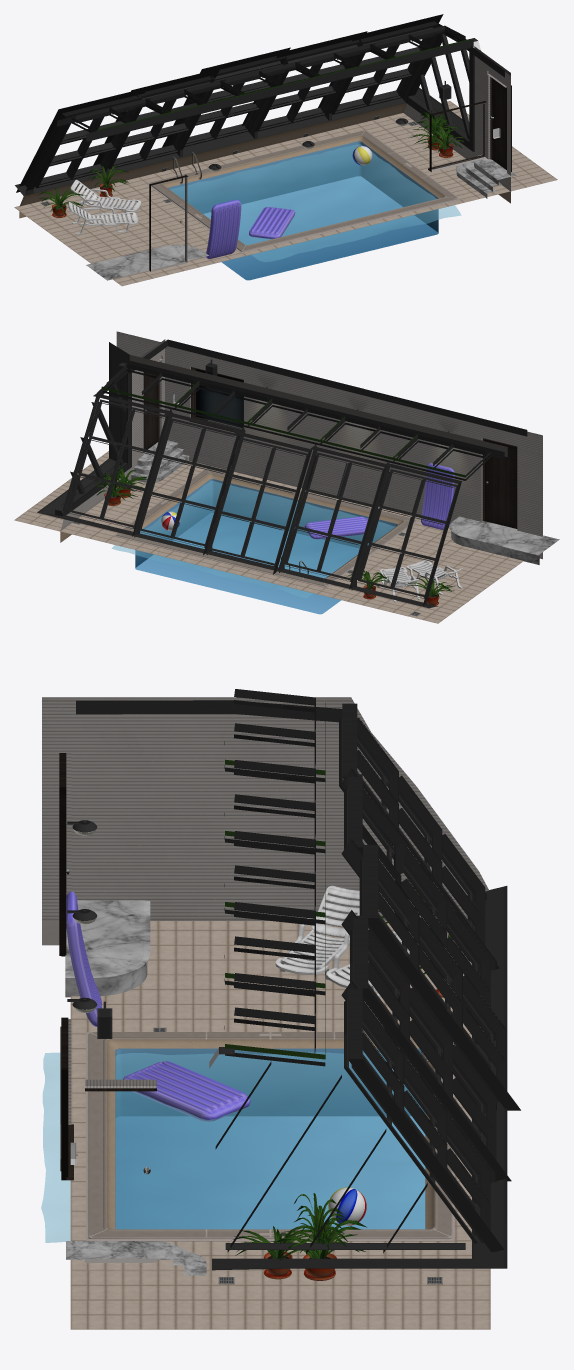
The picture shows the model from 3 angles, top to bottom: view 1: azimuth 30°, elevation 25°; view 2: azimuth 150°, elevation 25°; view 3: azimuth 270°, elevation 25°; orthographic projection. The views are drawn at different scales.
Parts seen in each view (by area): view 1: 000412-vb0=9f50b06d-vs=0b76a35c80823274-ps=8936fc882dfd54d6. (×2); view 2: 000412-vb0=9f50b06d-vs=0b76a35c80823274-ps=8936fc882dfd54d6. (×2); view 3: 000412-vb0=9f50b06d-vs=0b76a35c80823274-ps=8936fc882dfd54d6. (×2).
Part boxes in pixels (x1=…): 000412-vb0=9f50b06d-vs=0b76a35c80823274-ps=8936fc882dfd54d6. (×2): x1=14, y1=14, x2=557, y2=286; 000412-vb0=9f50b06d-vs=0b76a35c80823274-ps=8936fc882dfd54d6. (×2): x1=14, y1=331, x2=559, y2=623; 000412-vb0=9f50b06d-vs=0b76a35c80823274-ps=8936fc882dfd54d6. (×2): x1=41, y1=689, x2=520, y2=1329.
Size of the model in its own units: 1314 by 481 by 633.
2 materials, 1 textured.
